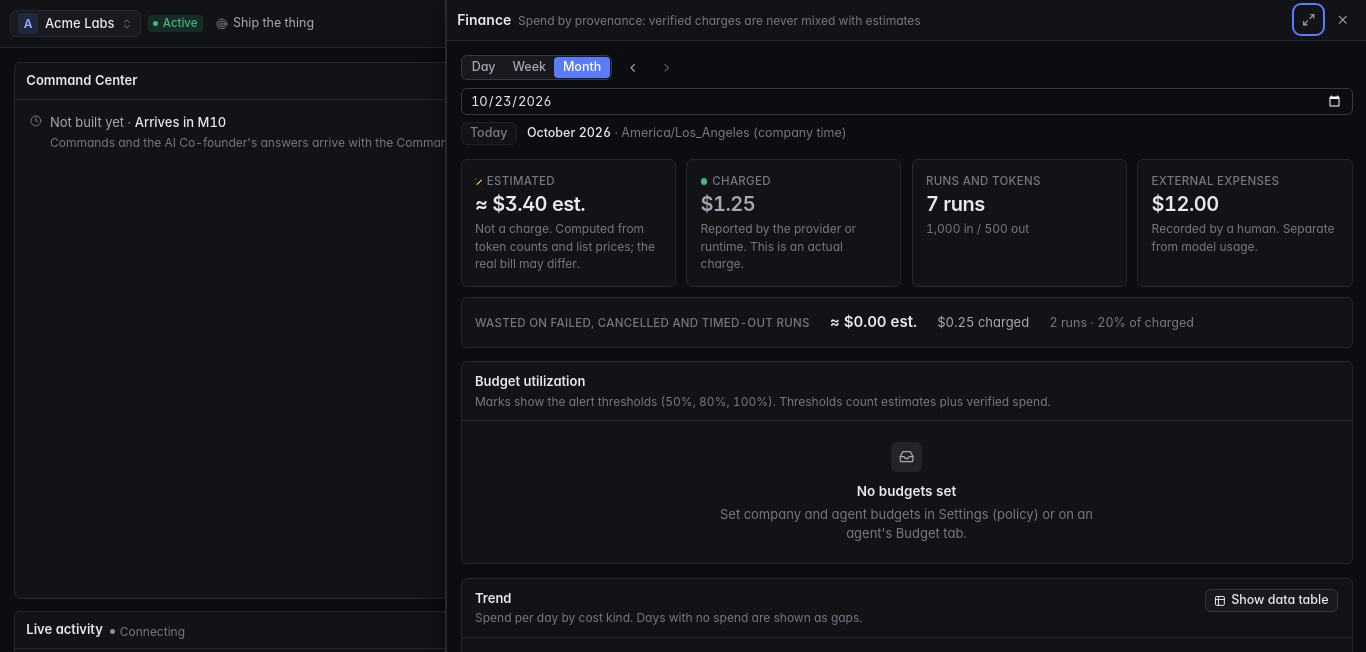
Test: Finance periods in company time › requests the company-local month, then the week and day around Friday 23 October (not the UTC 24th)
expect the text "October 2026" is shown: met, box 527,125 -> 611,140
expect the text "· America/Los_Angeles (company time)" is shown: met, box 614,125 -> 847,140
Click the button "Week": (529,68) 504,57 -> 554,78
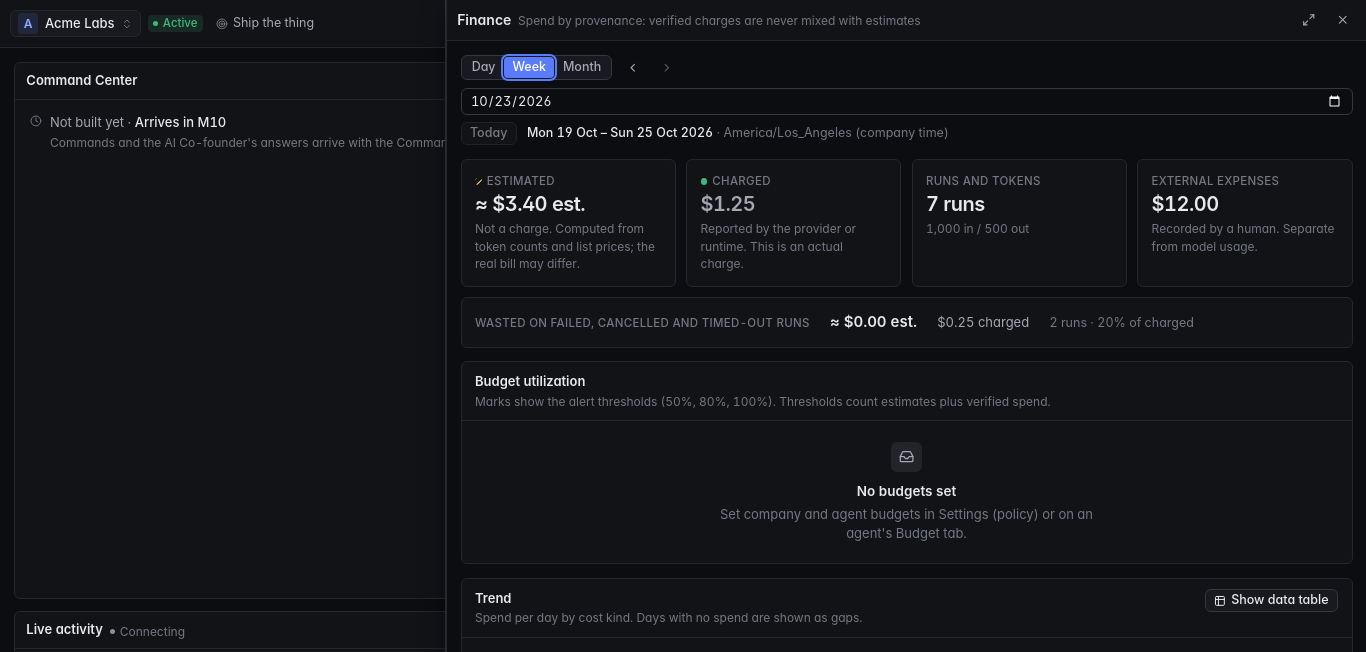
expect the text "Mon 19 Oct – Sun 25 Oct 2026" is shown: met, box 527,125 -> 713,140
Click the button "Day": (484,68) 463,57 -> 504,78
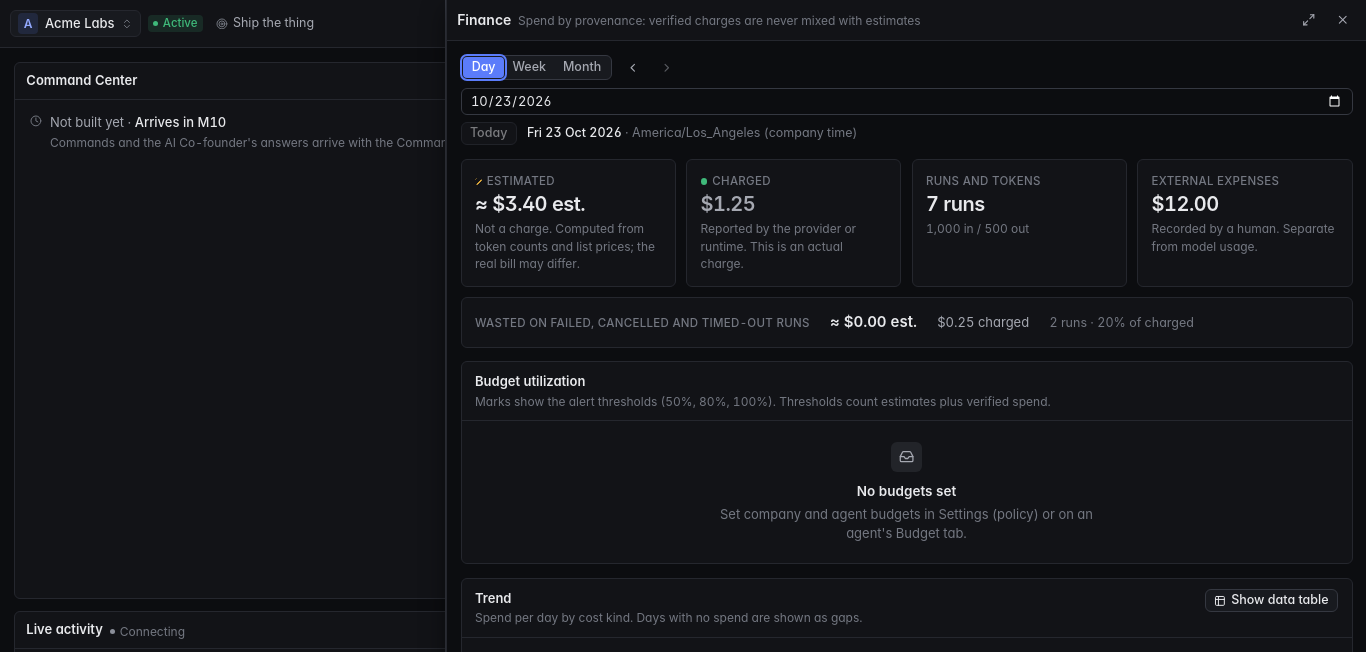
expect the text "Fri 23 Oct 2026" is shown: met, box 527,125 -> 622,140
